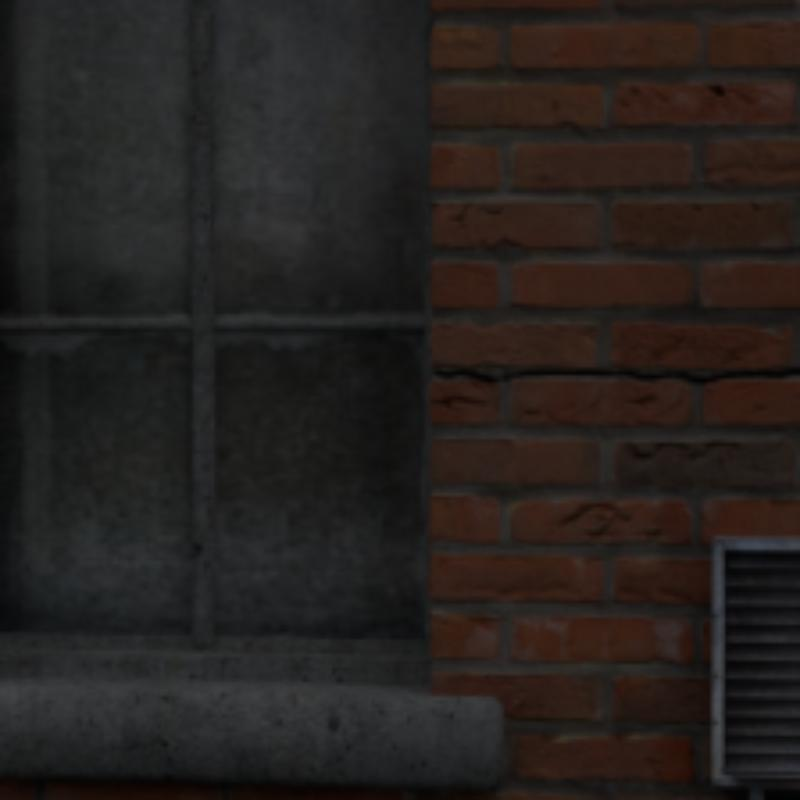pothole: (432, 364, 796, 386)
